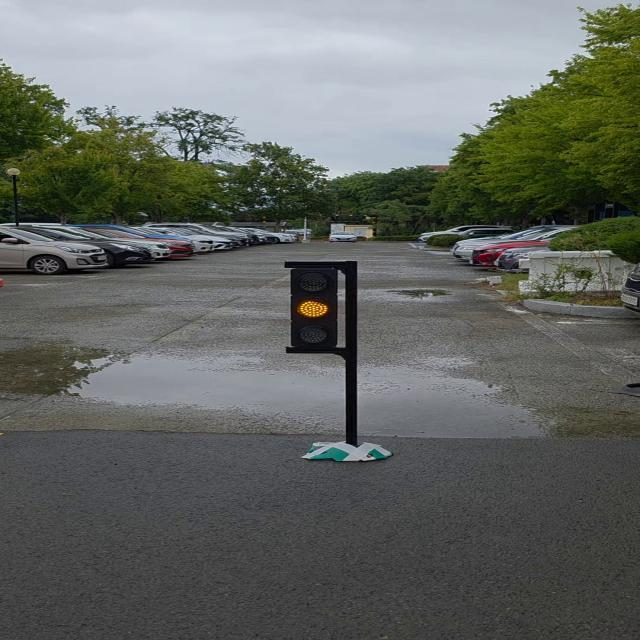yellow: (284, 265, 350, 350)
